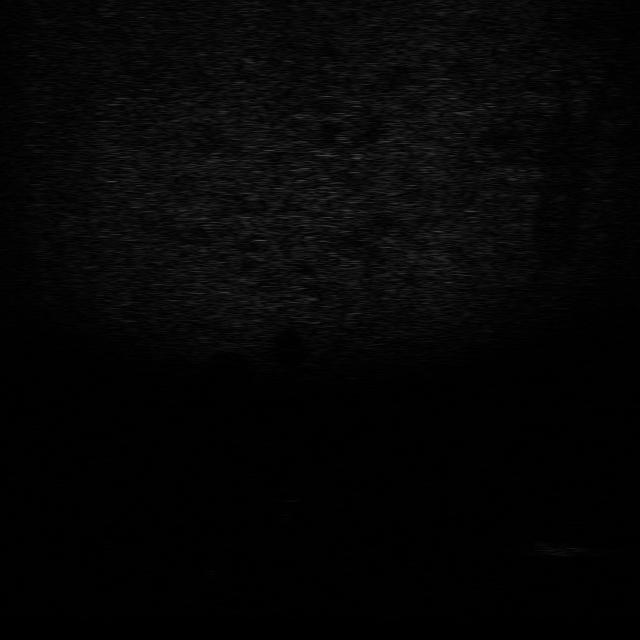ball: (271, 479, 305, 507)
metal bucket: (522, 538, 592, 557)
tyre: (200, 546, 252, 578)
